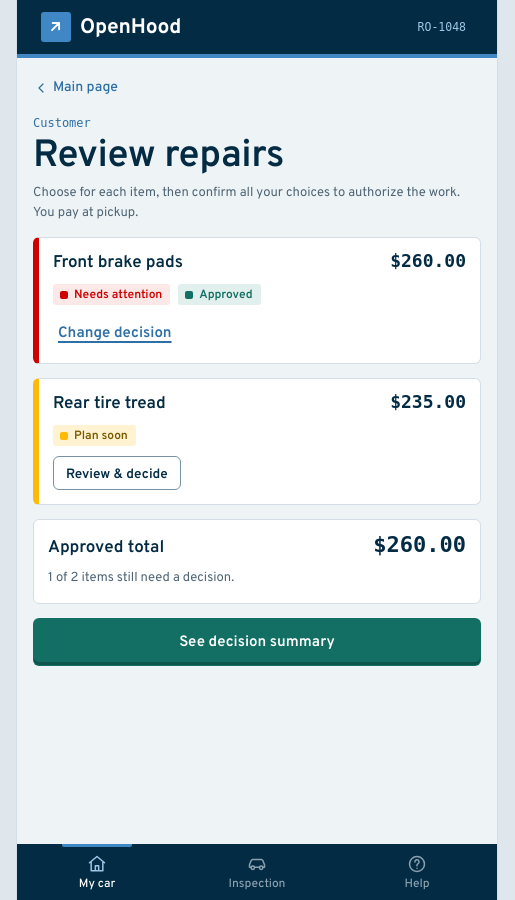
Test case: decisions persist across a reload and can be changed
Earlier steps of the test are not shown.
Check: the text with test id "approved-total" reads "$260.00", box x1=373 y1=532 x2=466 y2=557
Click the button with aria-label "Change decision for Front brake pads": (115,332) x1=53 y1=315 x2=176 y2=349
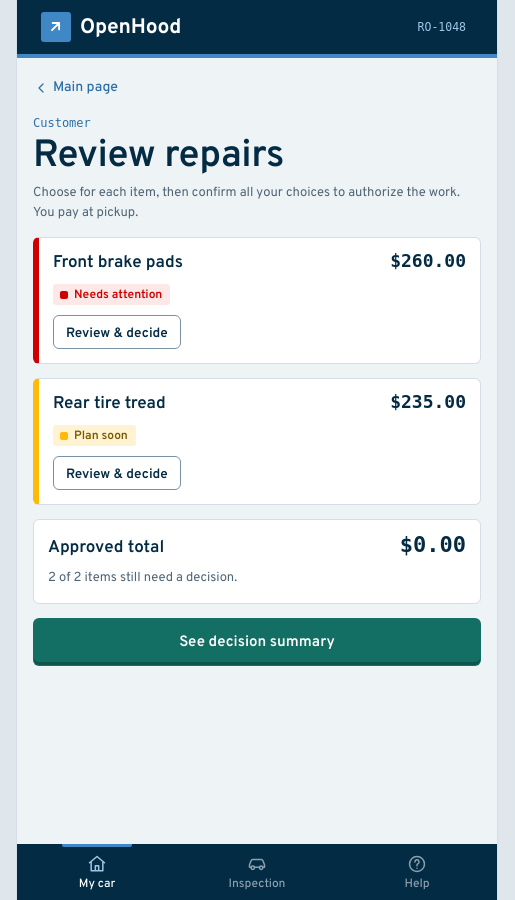
Check: the text with test id "approved-total" reads "$0.00", box x1=400 y1=532 x2=466 y2=557
